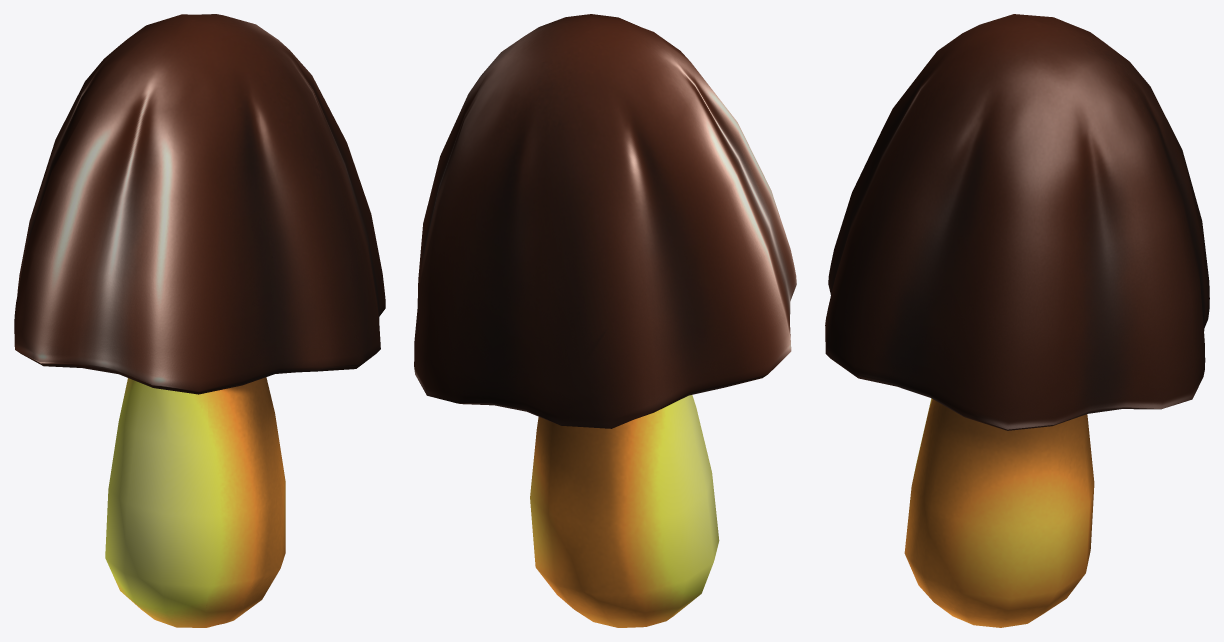
File: mushroom2.glb
The picture shows the model from 3 angles, left to right: view 1: azimuth 30°, elevation 25°; view 2: azimuth 150°, elevation 25°; view 3: azimuth 270°, elevation 25°; orthographic projection. The views are drawn at different scales.
Parts seen in each view (by area): view 1: MARSHROOM_UV_MARSHROOM_toB; view 2: MARSHROOM_UV_MARSHROOM_toB; view 3: MARSHROOM_UV_MARSHROOM_toB.
Part boxes in pixels (bbox=[...]): MARSHROOM_UV_MARSHROOM_toB: bbox=[14, 14, 385, 627]; MARSHROOM_UV_MARSHROOM_toB: bbox=[414, 14, 796, 627]; MARSHROOM_UV_MARSHROOM_toB: bbox=[825, 14, 1209, 627].
Bounding box in the file's own units: 0.5129 × 0.8285 × 0.4763.
Materials: 1 (1 with a texture image).
